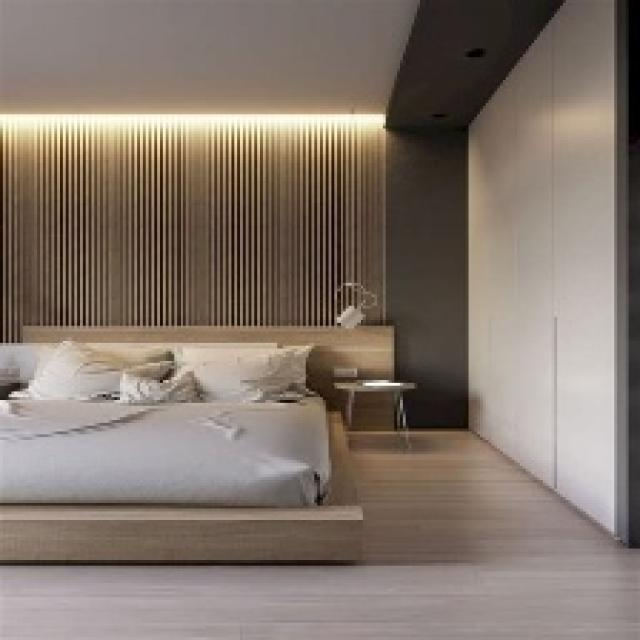Bed: (0, 331, 363, 563)
